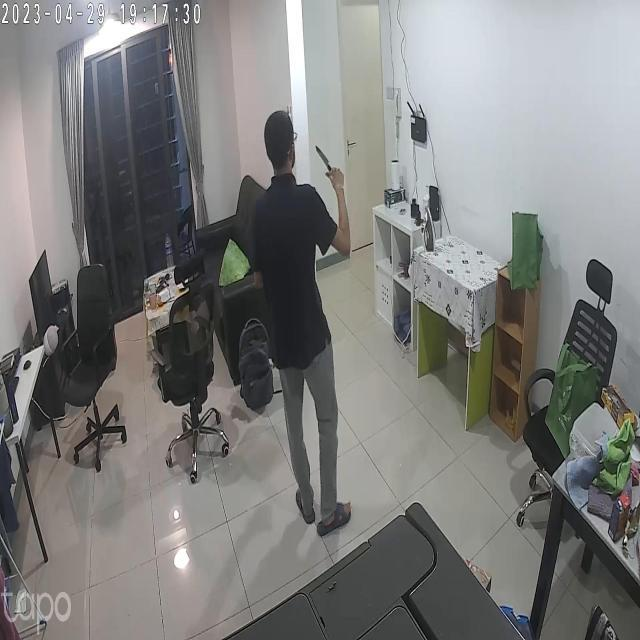Knife: (313, 134, 340, 177)
